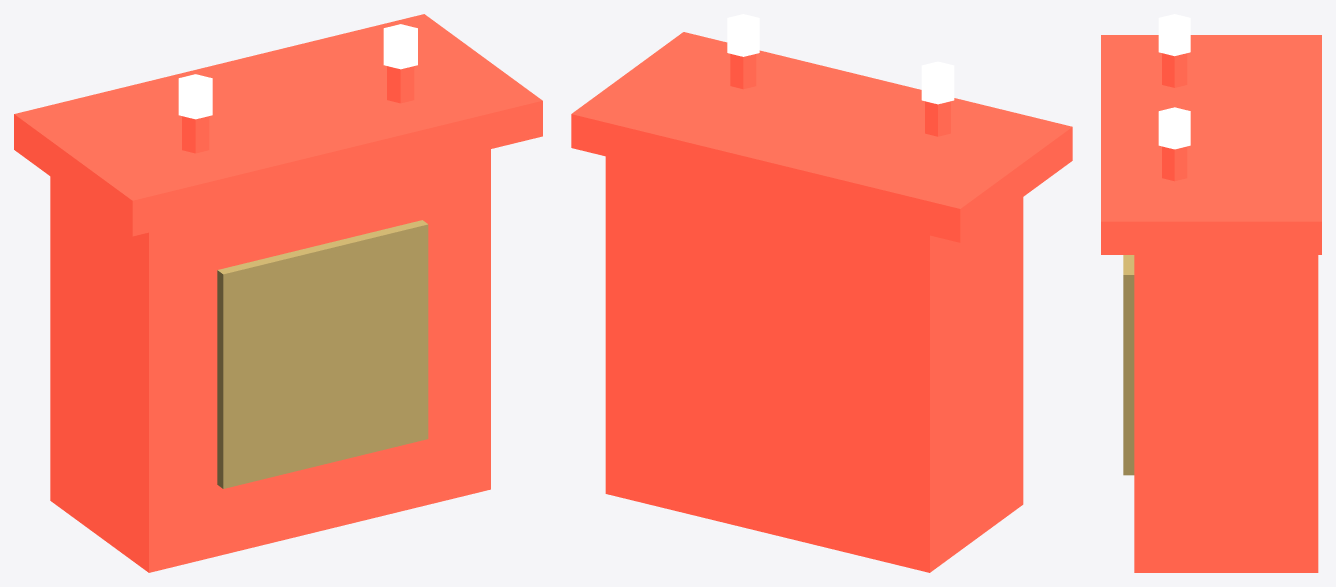
The model's file is wall_shrine.glb.
The picture shows the model from 3 angles, left to right: view 1: azimuth 30°, elevation 25°; view 2: azimuth 150°, elevation 25°; view 3: azimuth 270°, elevation 25°; orthographic projection. The views are drawn at different scales.
Parts seen in each view (by area): view 1: wall_shrine; view 2: wall_shrine; view 3: wall_shrine.
Boxes of the visible parts, x1=… form: wall_shrine: x1=14, y1=14, x2=542, y2=572; wall_shrine: x1=571, y1=14, x2=1072, y2=572; wall_shrine: x1=1101, y1=14, x2=1321, y2=572.
Size of the model in its own units: 0.6 by 0.64 by 0.3.
